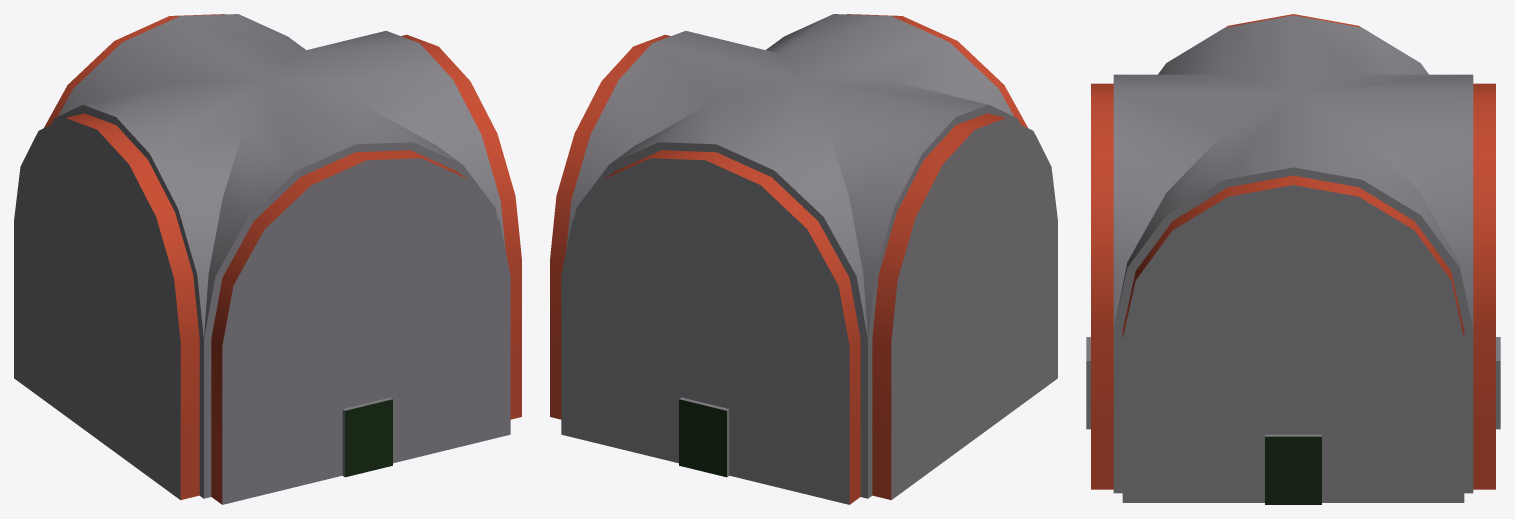
File: PicduMidi_Sala_sotano_3puertas.fbx
The picture shows the model from 3 angles, left to right: view 1: azimuth 30°, elevation 25°; view 2: azimuth 150°, elevation 25°; view 3: azimuth 270°, elevation 25°; orthographic projection. The views are drawn at different scales.
Parts seen in each view (by area): view 1: sala_laberinto_3puertas; view 2: sala_laberinto_3puertas; view 3: sala_laberinto_3puertas.
Boxes of the visible parts, x1,y1,x2,y2 form: sala_laberinto_3puertas: (14,14,521,504); sala_laberinto_3puertas: (550,14,1057,504); sala_laberinto_3puertas: (1086,14,1500,504).
Size of the model in its own units: 1822 by 1600 by 1844.
